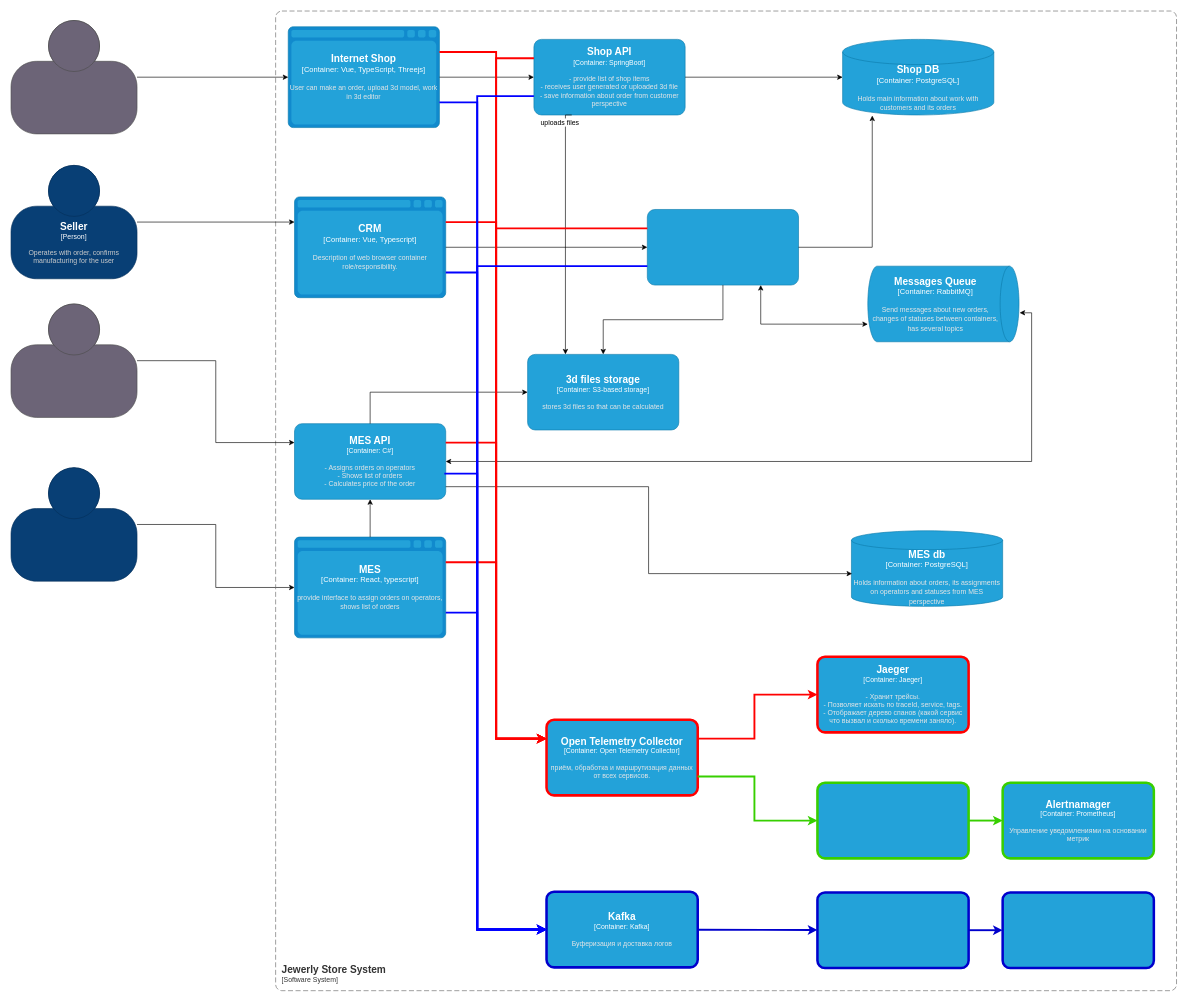
This 1188x1002 diagram has some shape labels left out. The centre of each missing label's shape, as x and y in pixels:
"API user [Person] Description of external person." belongs at (x=73, y=360).
"CRM API [Container: SpringBoot] Description of container role/responsibility." belongs at (x=723, y=247).
"Customer [Person] Description of external person." belongs at (x=73, y=77).
"Grafana [Container: Grafana] Визуализация логов" belongs at (x=1078, y=930).
"Loki [Container: Loki] Хранение логов" belongs at (x=893, y=930).
"Operator [Person] Takes order in work, manufactures jewerly" belongs at (x=73, y=524).
"Prometheus [Container: Prometheus] Сбор и хранение метрик" belongs at (x=893, y=820).
